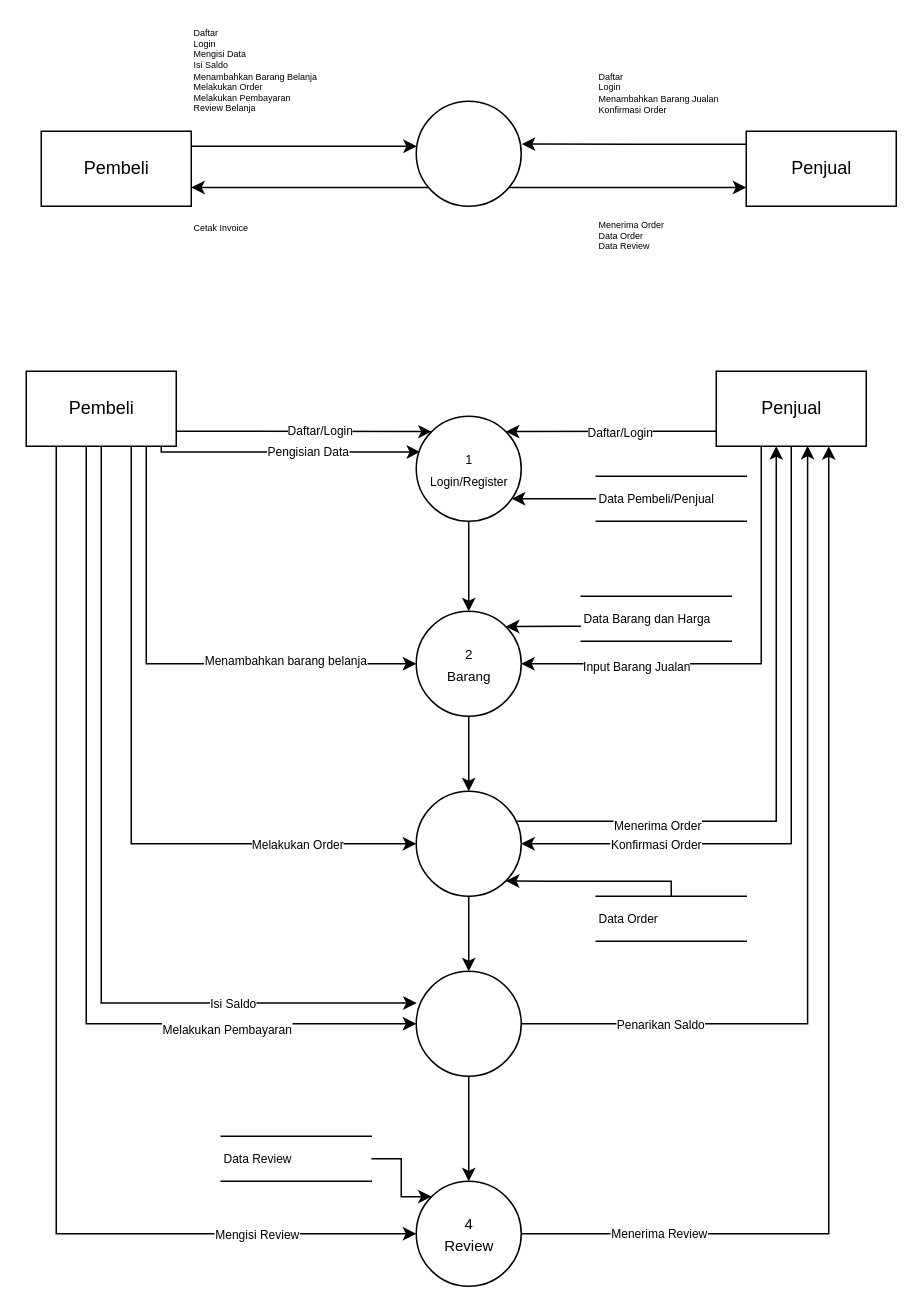
This 923x1313 diagram has some shape labels left out. Each missing label, with the box of its shape:
3 Order: (415, 790, 521, 896)
3 Transaksi: (415, 970, 521, 1076)
Jual Beli Online: (415, 100, 521, 206)
